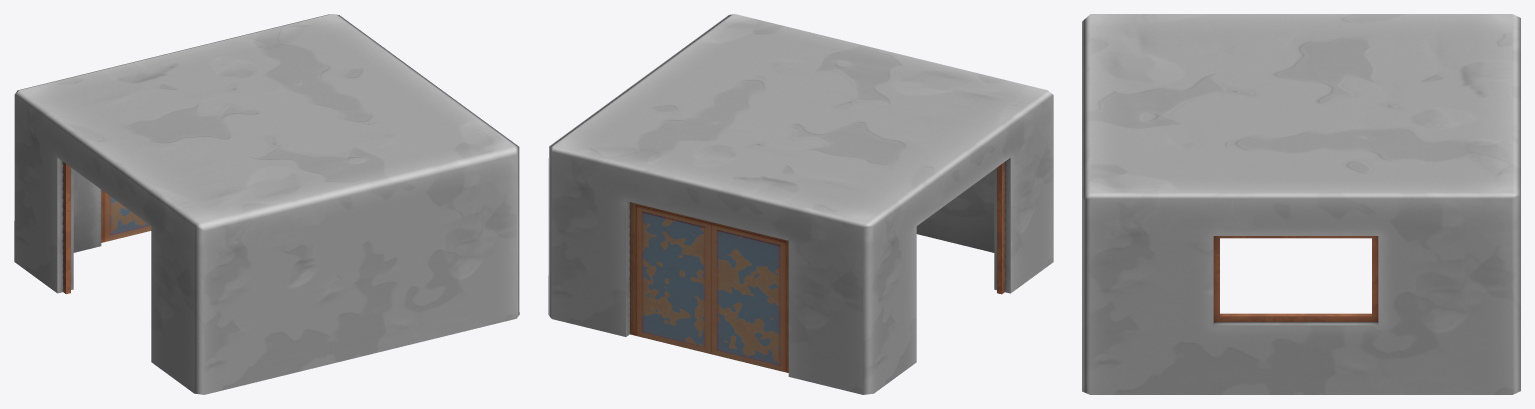
The model's file is stone_build_3.fbx.
3 views of the same model, side by side, from view 1: azimuth 30°, elevation 25°; view 2: azimuth 150°, elevation 25°; view 3: azimuth 270°, elevation 25° (orthographic). The views are drawn at different scales.
Visible parts, largest first — view 1: stone_build_3; view 2: stone_build_3; view 3: stone_build_3.
Boxes of the visible parts, x1,y1,x2,y2 form: stone_build_3: [14, 14, 519, 394]; stone_build_3: [548, 14, 1053, 394]; stone_build_3: [1082, 14, 1520, 394].
Bounding box in the file's own units: 400 × 200 × 400.
